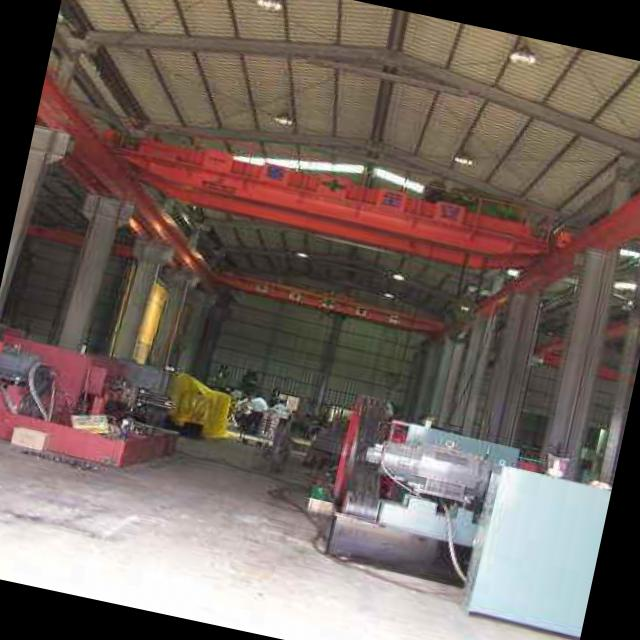ceiling beam: (56, 0, 640, 314)
